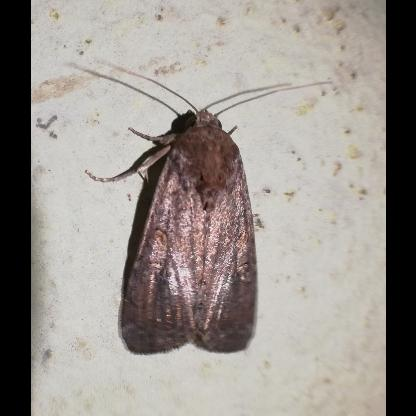Fall Armyworm Moth: (81, 61, 335, 358)
